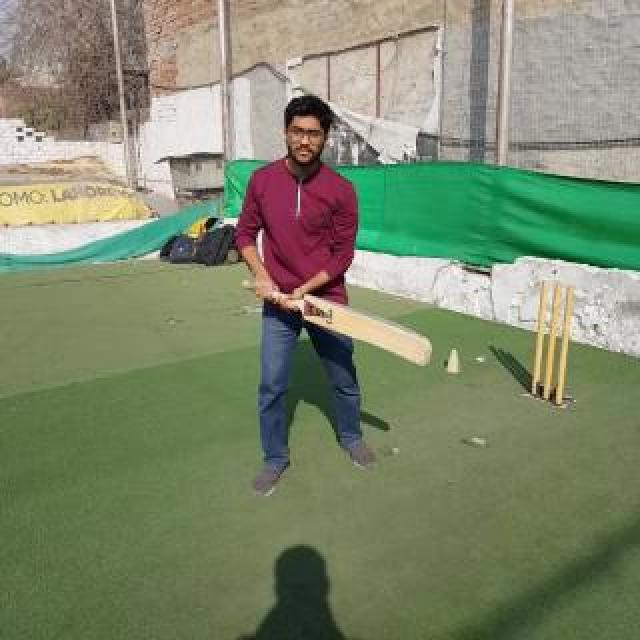bat: (242, 280, 432, 366)
